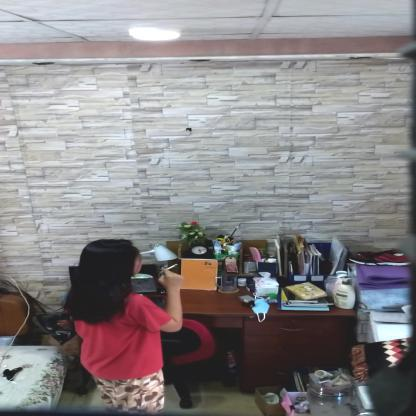cigarette: (166, 263, 179, 270)
person: (70, 238, 186, 414)
